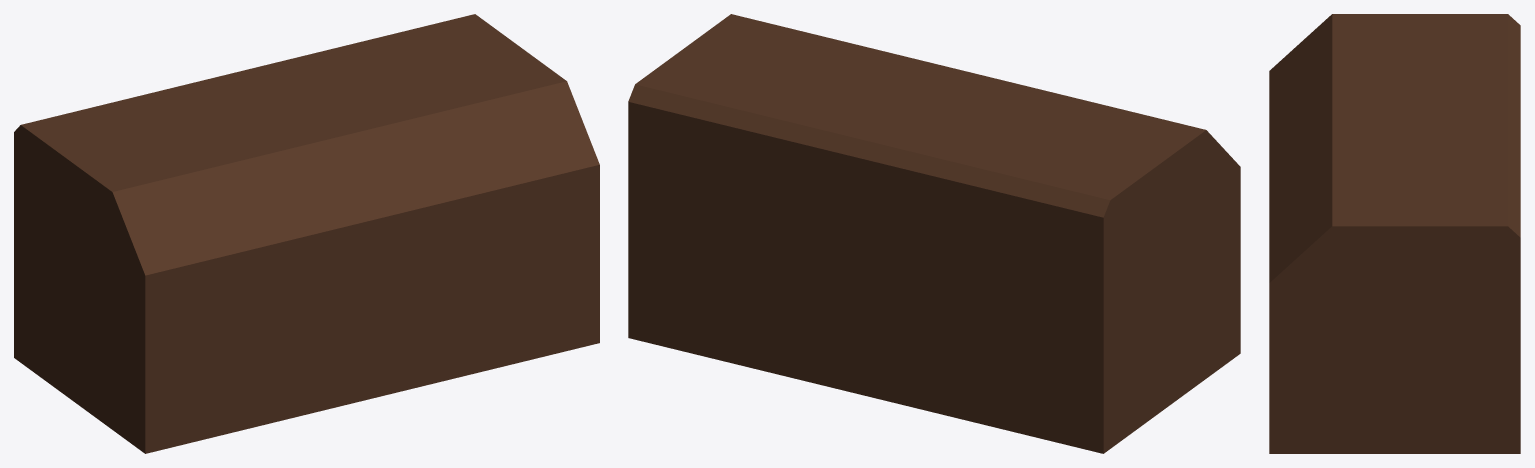
Rendered from shop.glb.
The picture shows the model from 3 angles, left to right: view 1: azimuth 30°, elevation 25°; view 2: azimuth 150°, elevation 25°; view 3: azimuth 270°, elevation 25°; orthographic projection. The views are drawn at different scales.
Parts seen in each view (by area): view 1: Cube; view 2: Cube; view 3: Cube.
Boxes of the visible parts, x1=… form: Cube: x1=14, y1=14, x2=599, y2=453; Cube: x1=628, y1=14, x2=1240, y2=453; Cube: x1=1269, y1=14, x2=1520, y2=453.
Size of the model in its own units: 4 by 2 by 2.
